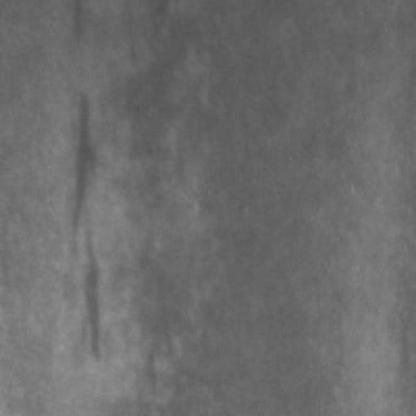inclusion: (68, 83, 121, 239), (76, 223, 112, 370)
